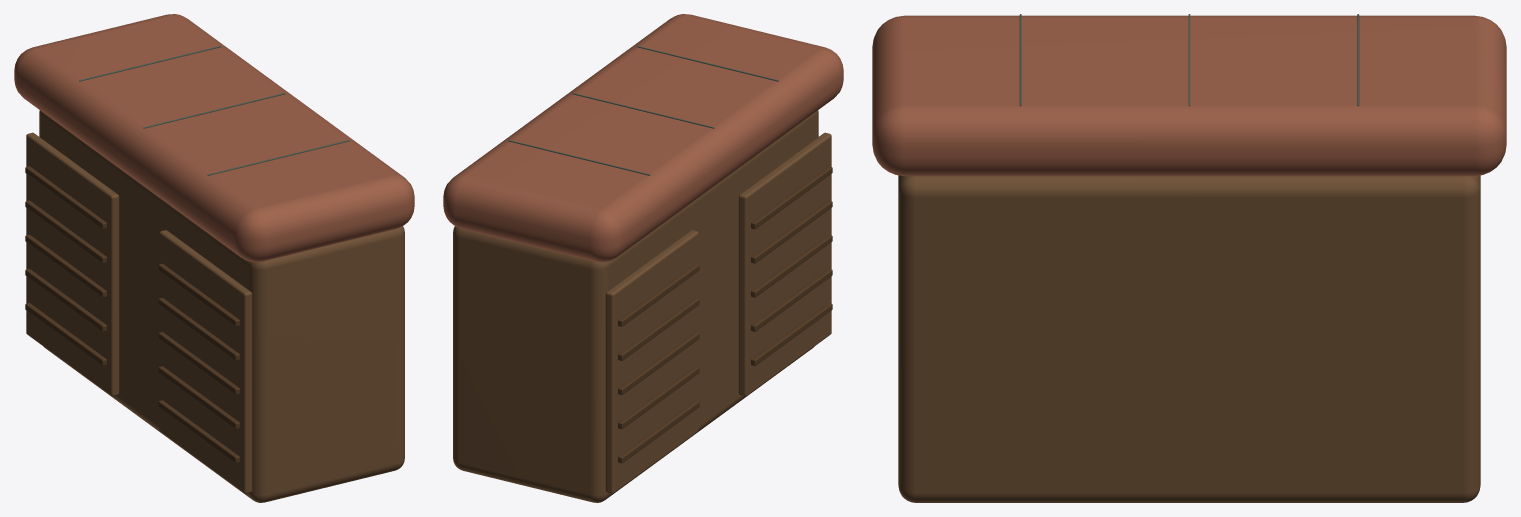
Rendered from shoe_bench.glb.
The picture shows the model from 3 angles, left to right: view 1: azimuth 30°, elevation 25°; view 2: azimuth 150°, elevation 25°; view 3: azimuth 270°, elevation 25°; orthographic projection. The views are drawn at different scales.
Parts seen in each view (by area): view 1: Tufted cushion, Bench carcass, Slatted oak door.001, Slatted oak door, Oak louver.005, Oak louver.002, Oak louver.004, Oak louver.001, Oak louver.006, Oak louver.007, Oak louver.008, Oak louver (+2 smaller); view 2: Tufted cushion, Bench carcass, Slatted oak door, Slatted oak door.001, Oak louver, Oak louver.001, Oak louver.007, Oak louver.009, Oak louver.002, Oak louver.003, Oak louver.006, Oak louver.008 (+2 smaller); view 3: Bench carcass, Tufted cushion.
Part boxes in pixels (box(x1,y1,x2,y2)): Tufted cushion: box(14, 14, 414, 262); Bench carcass: box(39, 110, 404, 502); Slatted oak door.001: box(159, 230, 252, 493); Slatted oak door: box(26, 132, 119, 396); Oak louver.005: box(158, 400, 239, 463); Oak louver.002: box(25, 234, 106, 297); Oak louver.004: box(25, 166, 106, 229); Oak louver.001: box(25, 268, 106, 331); Oak louver.006: box(158, 366, 239, 429); Oak louver.007: box(158, 332, 239, 394); Oak louver.008: box(158, 298, 239, 360); Oak louver: box(25, 303, 106, 365); Tufted cushion: box(443, 14, 843, 262); Bench carcass: box(453, 110, 818, 502); Slatted oak door: box(605, 230, 698, 493); Slatted oak door.001: box(738, 132, 831, 396); Oak louver: box(618, 400, 699, 463); Oak louver.001: box(618, 366, 699, 429); Oak louver.007: box(751, 234, 832, 297); Oak louver.009: box(751, 166, 832, 229); Oak louver.002: box(618, 332, 699, 394); Oak louver.003: box(618, 298, 699, 360); Oak louver.006: box(751, 268, 832, 331); Oak louver.008: box(751, 200, 832, 263); Bench carcass: box(898, 175, 1480, 502); Tufted cushion: box(872, 15, 1506, 176).
Size of the model in its own units: 0.46 by 0.7495 by 1.09.
